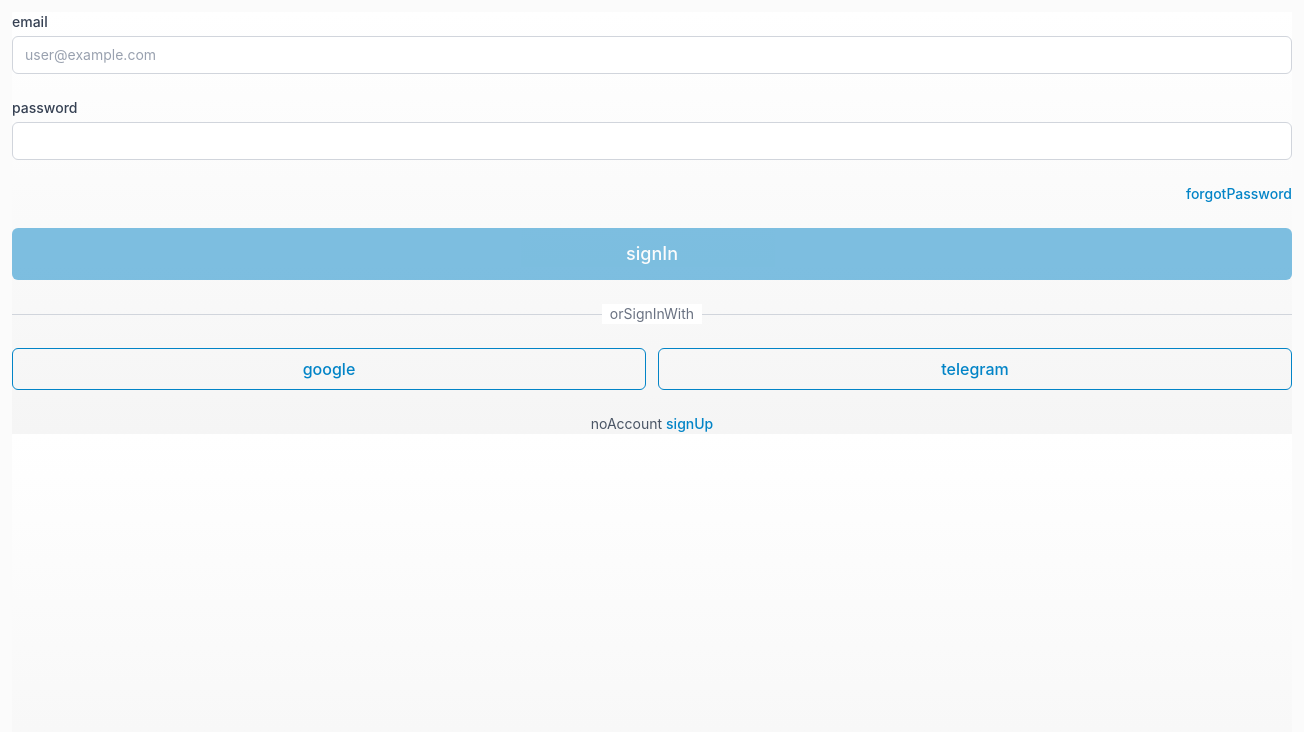
LoginForm › shows error message on login failure
Type "test@example.com" into the field labelled "email" at coordinates (652, 55), box [12, 36, 1292, 74]
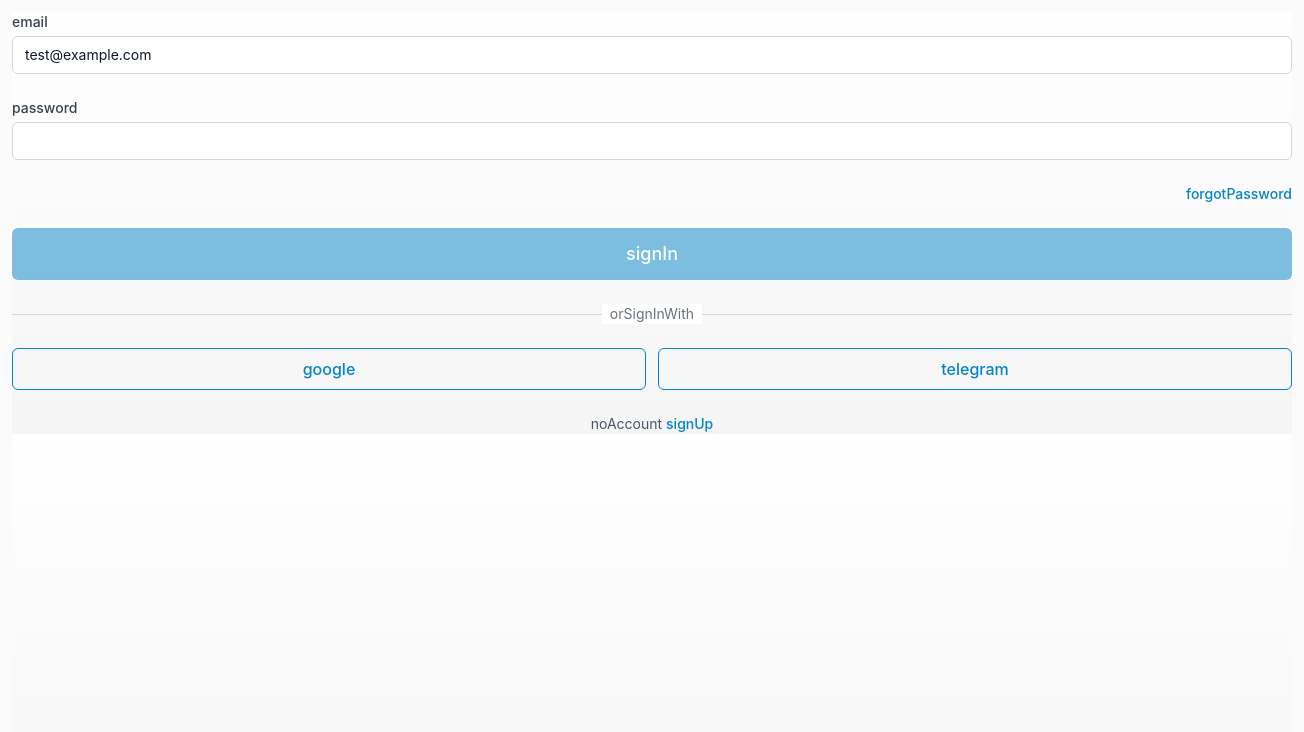
Type "wrongpassword" into the password field labelled "password" at coordinates (652, 141), box [12, 122, 1292, 160]
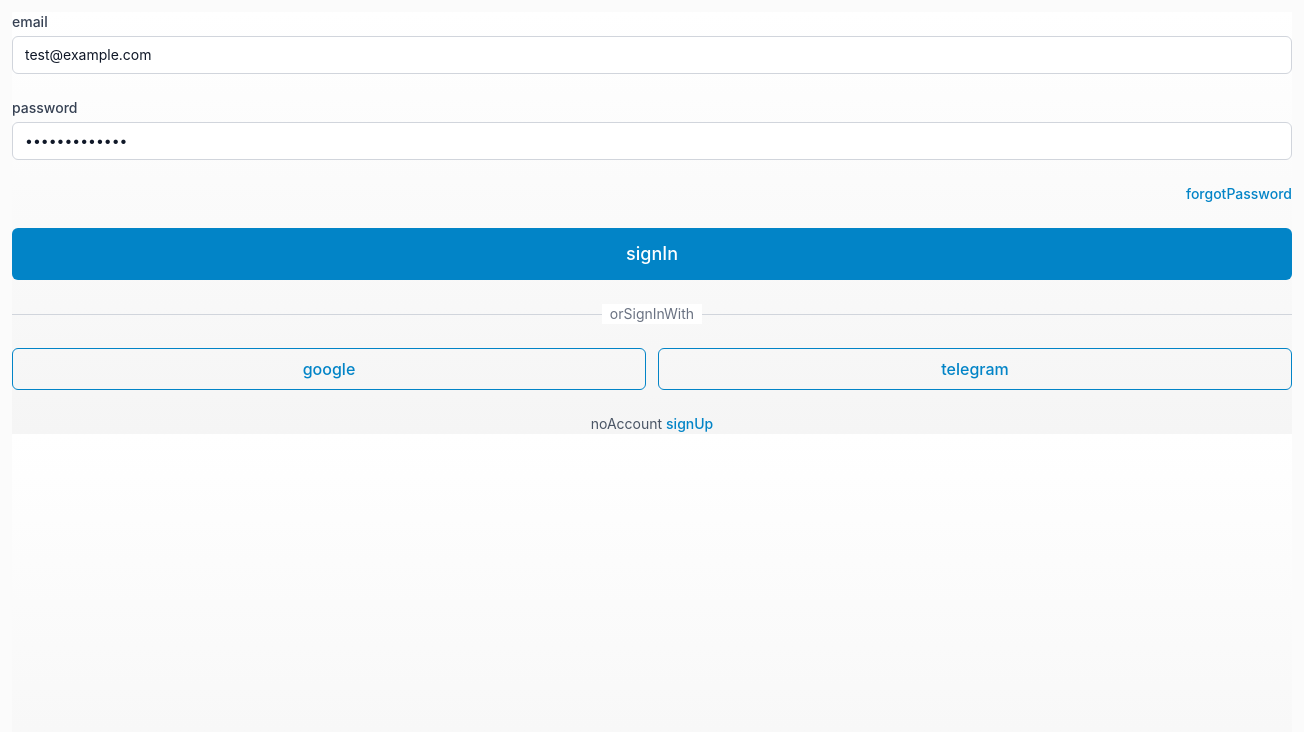
Click the button "signIn" at coordinates (652, 254), box [12, 228, 1292, 280]
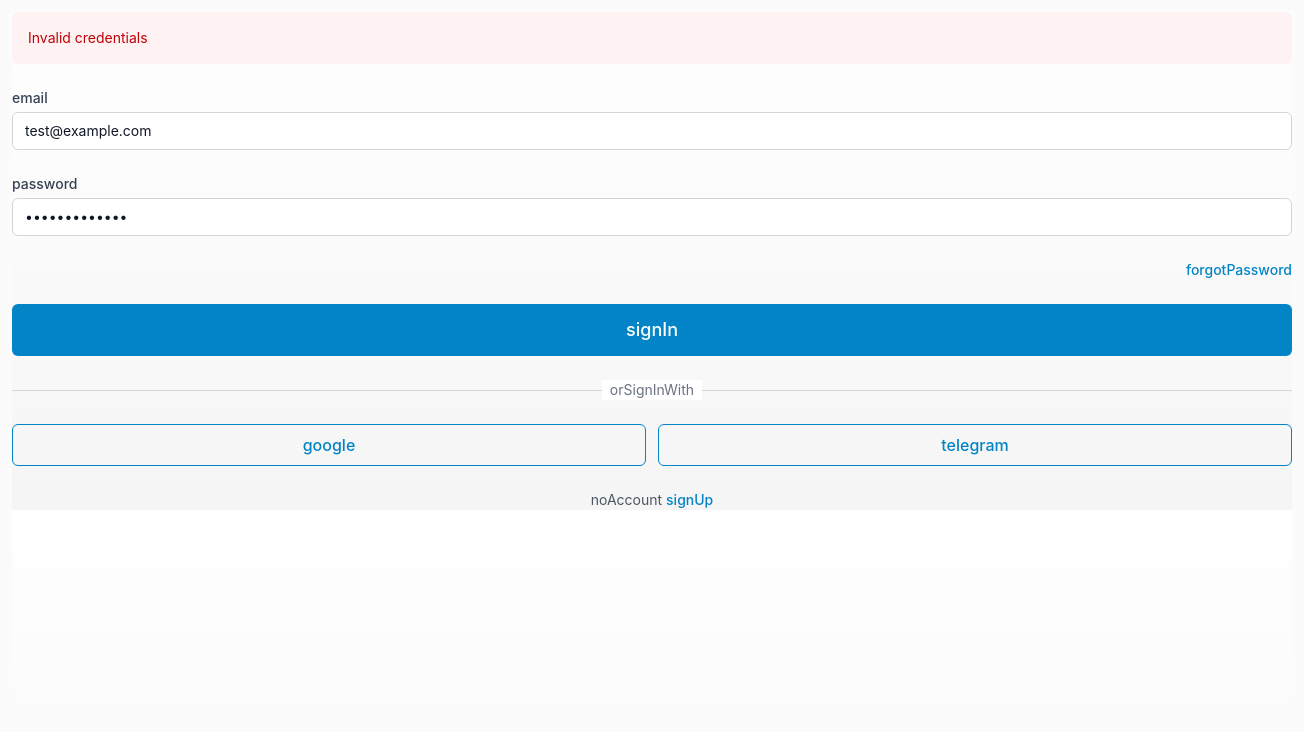
Check: the message reads "Invalid credentials", box [28, 29, 148, 46]
